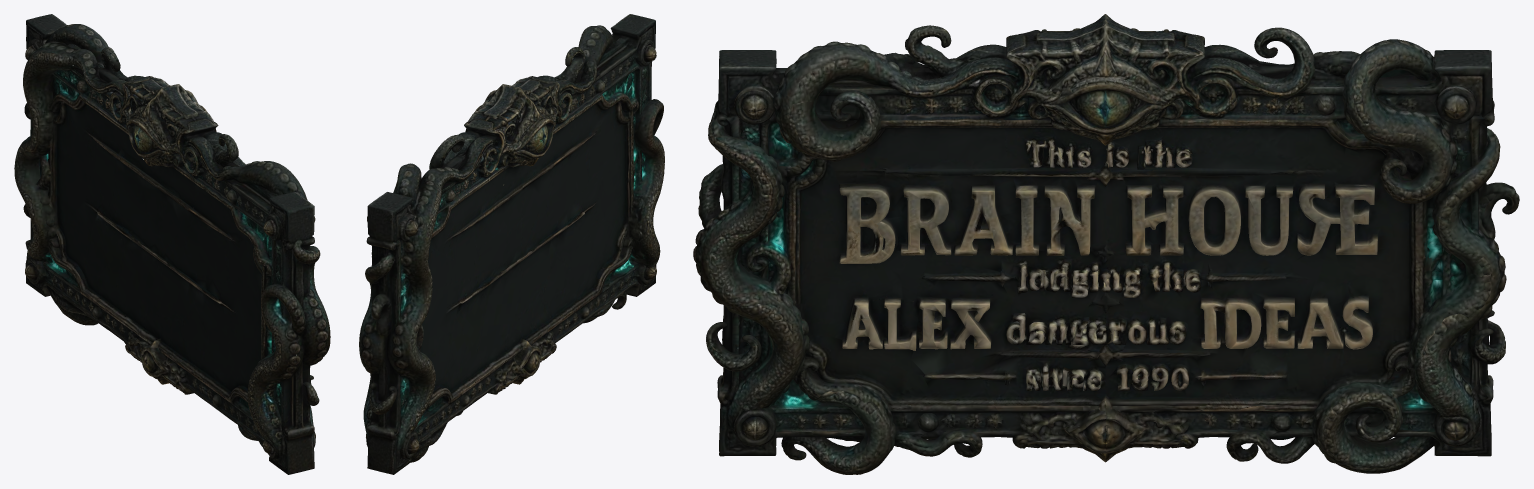
Rendered from mysterious-plaque-optimized.glb.
The picture shows the model from 3 angles, left to right: view 1: azimuth 30°, elevation 25°; view 2: azimuth 150°, elevation 25°; view 3: azimuth 270°, elevation 25°; orthographic projection. The views are drawn at different scales.
Visible parts, largest first — view 1: tripo_node_b995132c-7f77-4b13-abf8-454b8f62d3b5; view 2: tripo_node_b995132c-7f77-4b13-abf8-454b8f62d3b5; view 3: tripo_node_b995132c-7f77-4b13-abf8-454b8f62d3b5.
Part boxes in pixels (x1,y1,x2,y2): tripo_node_b995132c-7f77-4b13-abf8-454b8f62d3b5: (14, 14, 330, 474); tripo_node_b995132c-7f77-4b13-abf8-454b8f62d3b5: (359, 14, 664, 474); tripo_node_b995132c-7f77-4b13-abf8-454b8f62d3b5: (693, 14, 1519, 474).
Size of the model in its own units: 0.134 by 0.5872 by 0.9802.
1 material, 1 textured.
